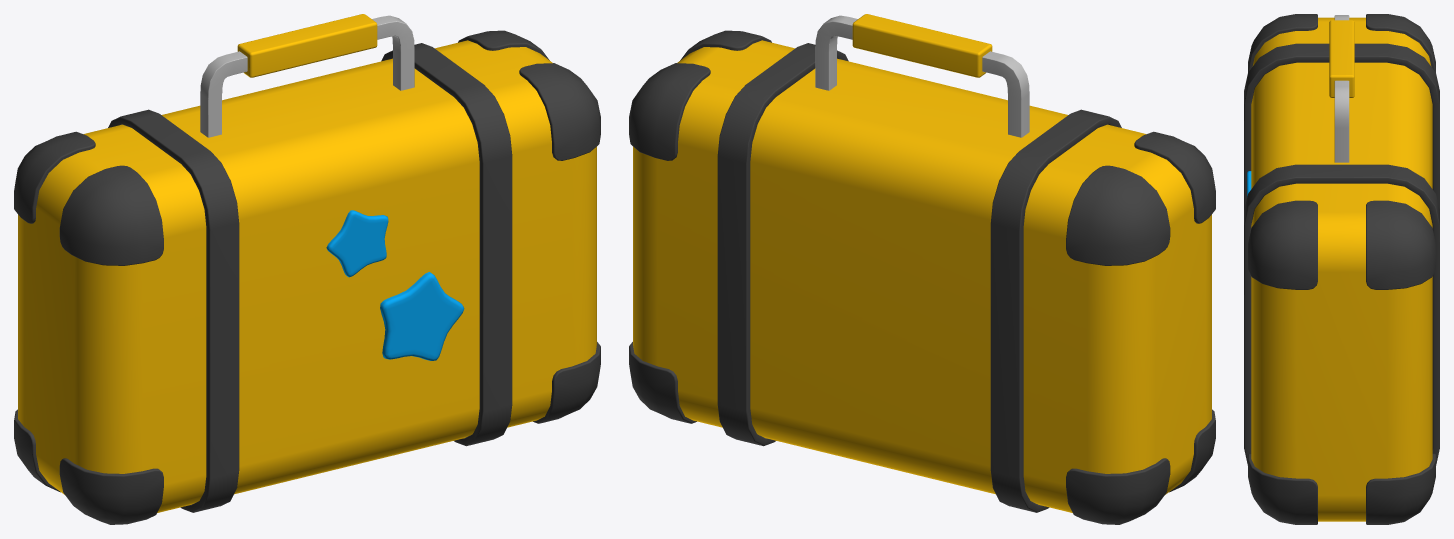
File: Public_7_Suitcase_3.glb
The picture shows the model from 3 angles, left to right: view 1: azimuth 30°, elevation 25°; view 2: azimuth 150°, elevation 25°; view 3: azimuth 270°, elevation 25°; orthographic projection. The views are drawn at different scales.
Visible parts, largest first — view 1: Public_7_Suitcase_3; view 2: Public_7_Suitcase_3; view 3: Public_7_Suitcase_3.
Part boxes in pixels (<box>): Public_7_Suitcase_3: <box>14,14,600,524</box>; Public_7_Suitcase_3: <box>629,14,1215,524</box>; Public_7_Suitcase_3: <box>1244,14,1439,524</box>.
Bounding box in the file's own units: 1.48 × 1.14 × 0.5304.
Materials: 1 (1 with a texture image).
